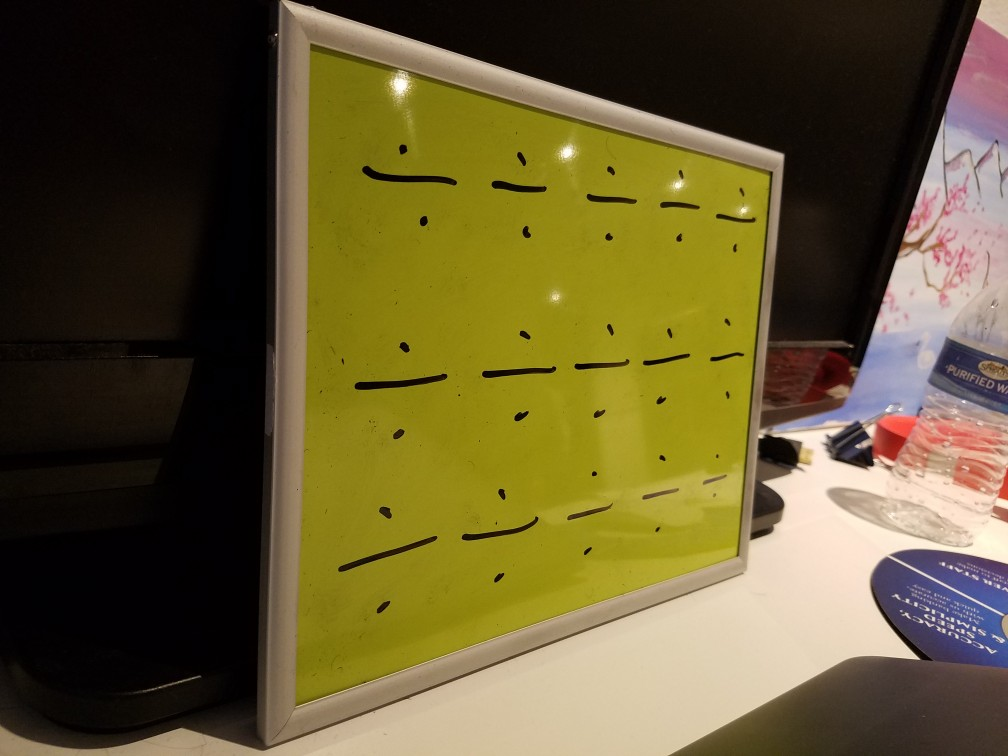div: (330, 489, 441, 622), (341, 117, 465, 236), (330, 328, 454, 446), (466, 121, 562, 244), (470, 315, 565, 427), (456, 469, 545, 588), (545, 450, 622, 564), (568, 140, 641, 253), (568, 306, 630, 427), (638, 300, 689, 424), (697, 297, 744, 407), (711, 168, 764, 265), (654, 159, 703, 256), (636, 442, 681, 544), (691, 442, 732, 522)
